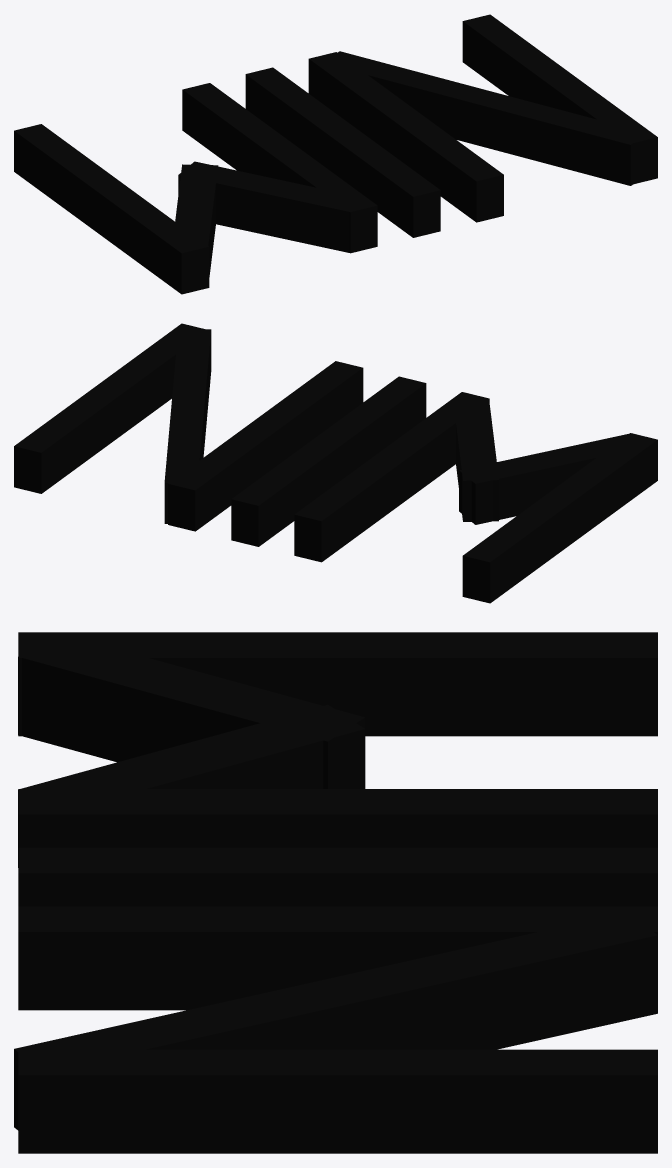
The model's file is WIN.fbx.
3 views of the same model, one above another, from view 1: azimuth 30°, elevation 25°; view 2: azimuth 150°, elevation 25°; view 3: azimuth 270°, elevation 25° (orthographic). The views are drawn at different scales.
Parts seen in each view (by area): view 1: Win; view 2: Win; view 3: Win.
Part boxes in pixels (x1,y1,x2,y2): Win: [14, 14, 657, 294]; Win: [14, 323, 657, 603]; Win: [14, 632, 657, 1153].
Bounding box in the file's own units: 2423 × 200 × 1489.
Materials: 1 (1 with a texture image).
